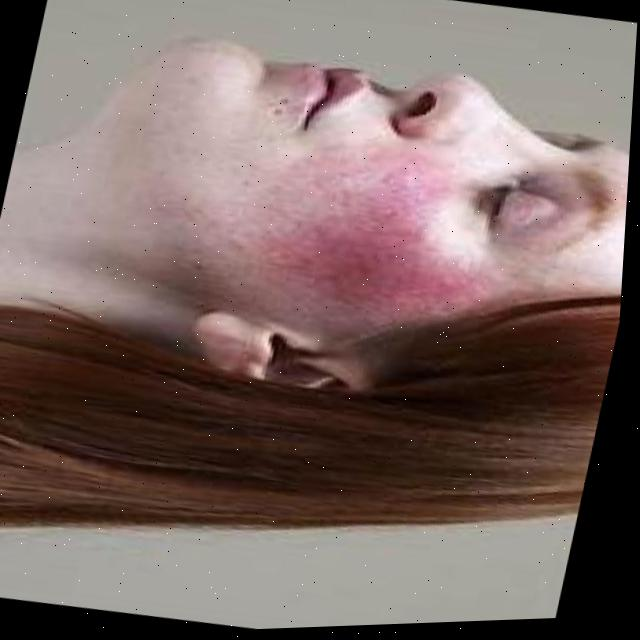Rosacea: (264, 148, 475, 324)
